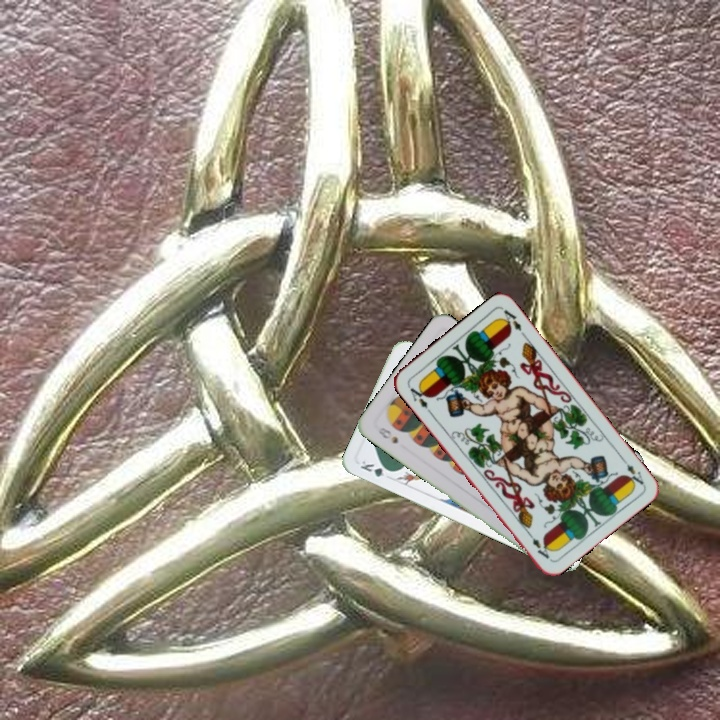EA: (404, 381, 434, 416), (617, 453, 647, 488)
GK: (356, 456, 396, 479)
S8: (373, 423, 401, 446)
